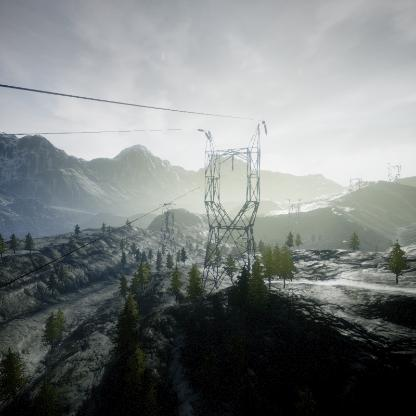tower: (196, 118, 270, 288)
